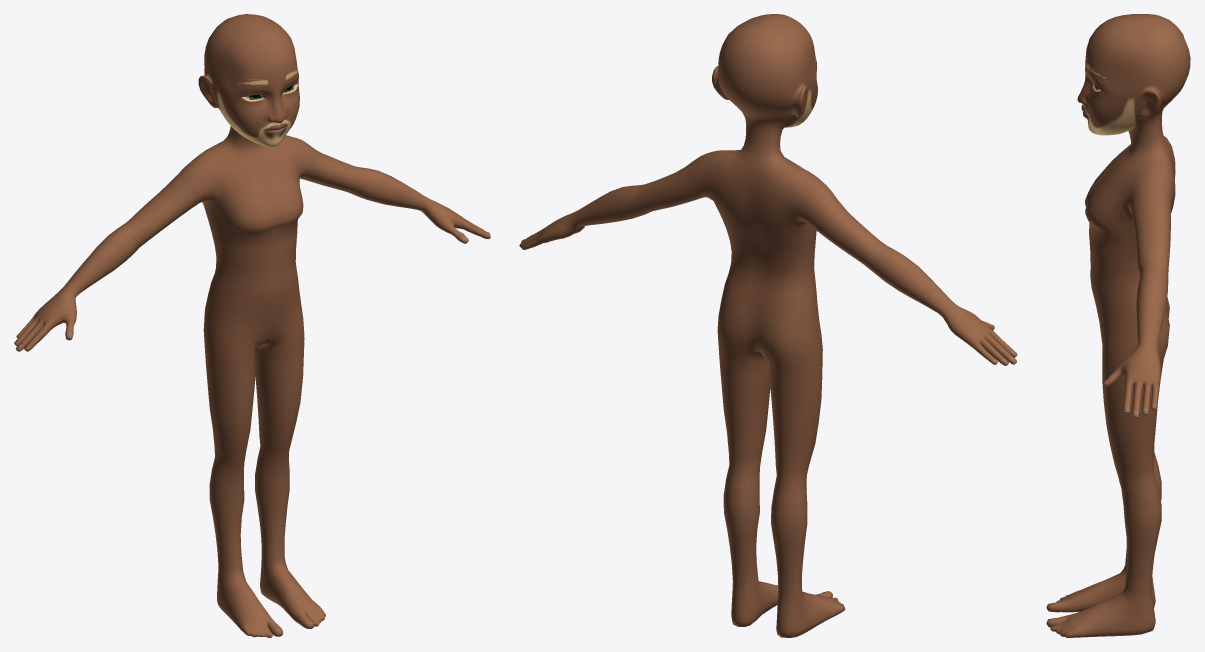
File: frame_0011.glb
3 renders of one model, left to right at view 1: azimuth 30°, elevation 25°; view 2: azimuth 150°, elevation 25°; view 3: azimuth 270°, elevation 25°, orthographic. The views are drawn at different scales.
Parts seen in each view (by area): view 1: frame_0011_head_geo; view 2: frame_0011_head_geo; view 3: frame_0011_head_geo.
Part boxes in pixels (x1=…): frame_0011_head_geo: x1=14, y1=14, x2=490, y2=637; frame_0011_head_geo: x1=519, y1=14, x2=1017, y2=637; frame_0011_head_geo: x1=1046, y1=14, x2=1190, y2=637.
Bounding box in the file's own units: 1.28 × 1.5 × 0.3253.
Materials: 3 (3 with a texture image).
